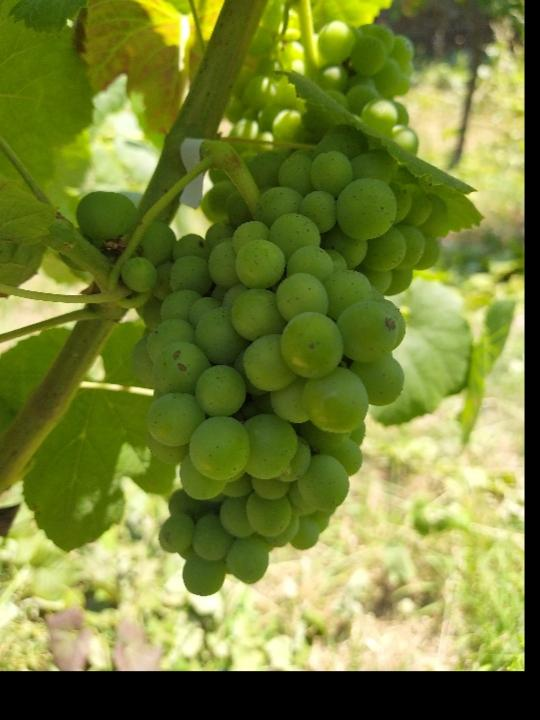grape: (74, 123, 448, 600)
